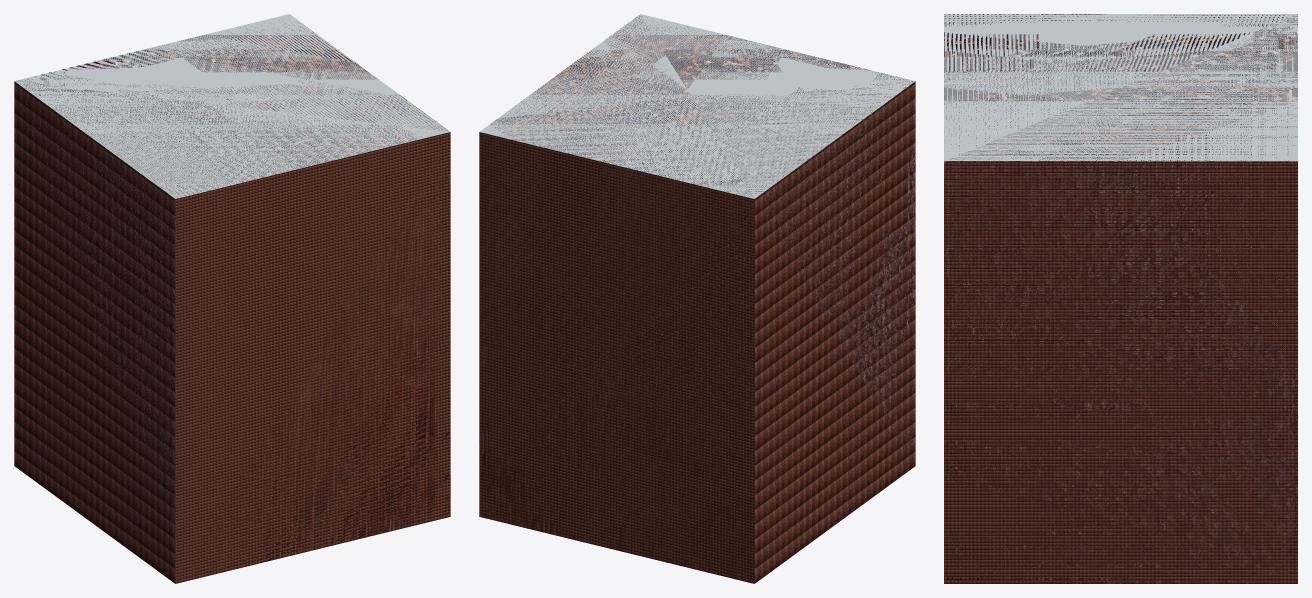
Rendered from kempas.glb.
3 views of the same model, side by side, from view 1: azimuth 30°, elevation 25°; view 2: azimuth 150°, elevation 25°; view 3: azimuth 270°, elevation 25° (orthographic). The views are drawn at different scales.
Visible parts, largest first — view 1: BackSide, FrontSide; view 2: BackSide, FrontSide; view 3: BackSide, FrontSide.
Part boxes in pixels (left/top/right/bottom): BackSide: left=14, top=14, right=450, bottom=583; FrontSide: left=15, top=21, right=450, bottom=574; BackSide: left=479, top=14, right=915, bottom=583; FrontSide: left=479, top=15, right=915, bottom=582; BackSide: left=944, top=14, right=1297, bottom=583; FrontSide: left=944, top=14, right=1297, bottom=583.
Size of the model in its own units: 2.35 by 3.13 by 2.38.
Materials: 4 (3 with a texture image).
